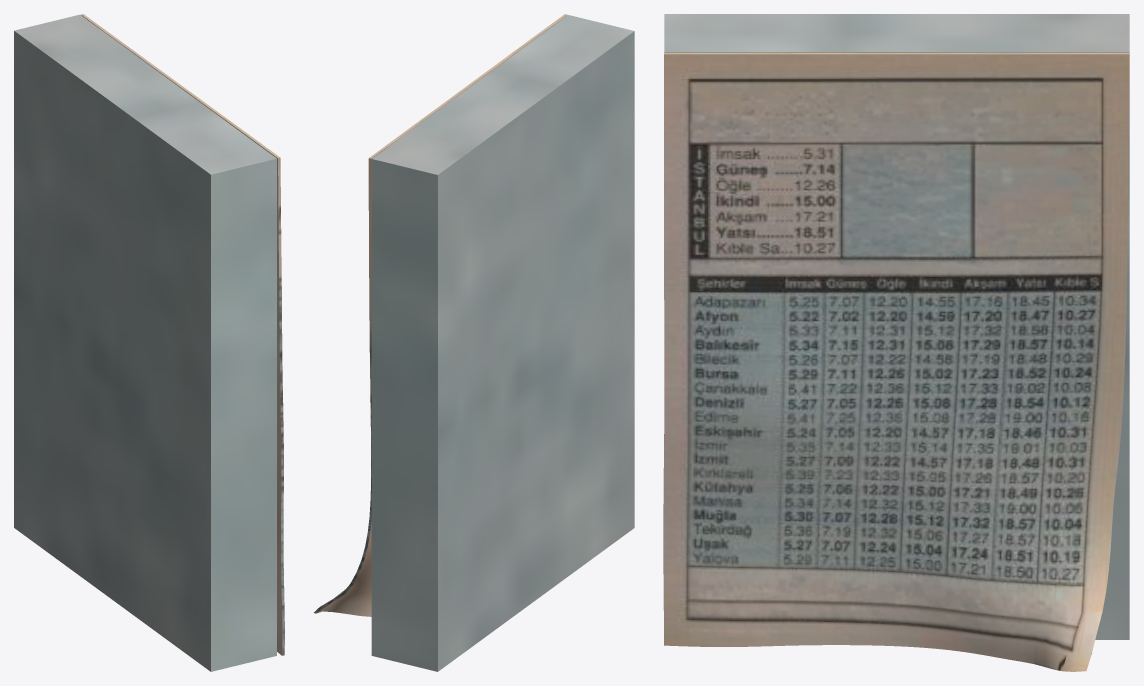
Rendered from calendar 1.fbx.
3 renders of one model, left to right at view 1: azimuth 30°, elevation 25°; view 2: azimuth 150°, elevation 25°; view 3: azimuth 270°, elevation 25°, orthographic. The views are drawn at different scales.
Visible parts, largest first — view 1: Cube, Cube.001; view 2: Cube, Cube.001; view 3: Cube.001, Cube.
Boxes of the visible parts, x1,y1,x2,y2 form: Cube: [14, 14, 276, 671]; Cube.001: [81, 14, 284, 655]; Cube: [371, 15, 634, 671]; Cube.001: [313, 14, 567, 616]; Cube.001: [663, 52, 1129, 671]; Cube: [664, 14, 1129, 639].
Size of the model in its own units: 4.19 by 13.99 by 10.02.
